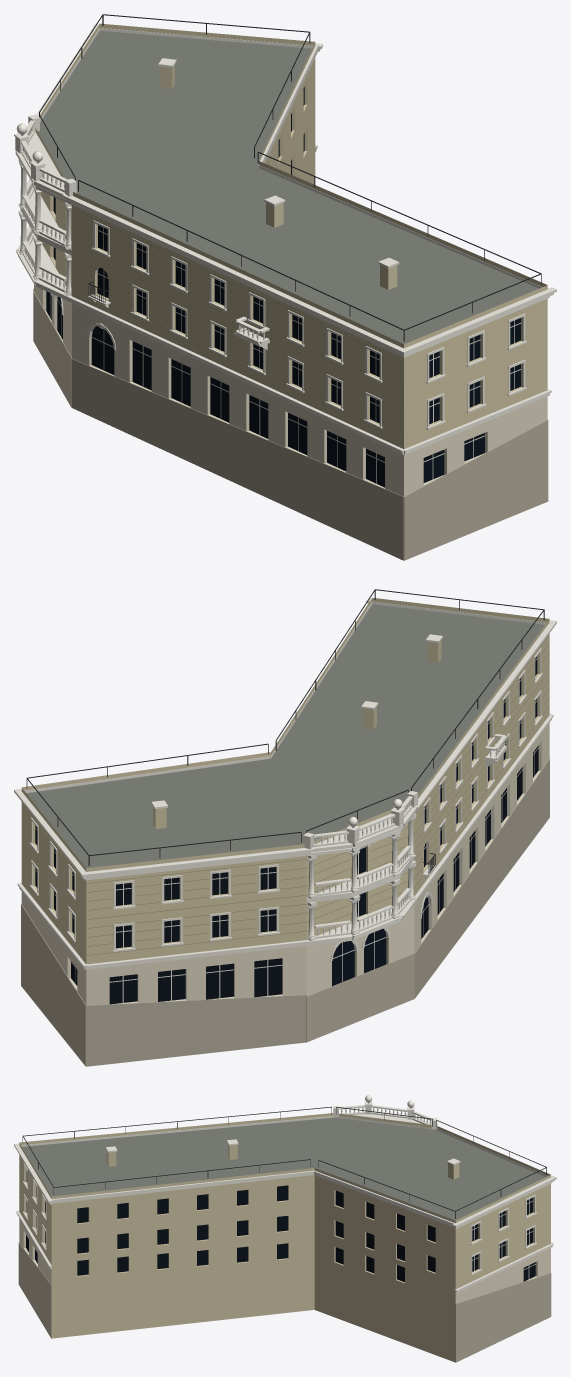
File: bmorskaya35.glb
3 views of the same model, one above another, from view 1: azimuth 30°, elevation 25°; view 2: azimuth 150°, elevation 25°; view 3: azimuth 270°, elevation 25° (orthographic). The views are drawn at different scales.
Parts seen in each view (by area): view 1: bmorskaya35_roof, bmorskaya35_wall, bmorskaya35_stone, bmorskaya35_trim, bmorskaya35_wall2, bmorskaya35_glass, bmorskaya35_wood, bmorskaya35_metal, bmorskaya35_trim_s; view 2: bmorskaya35_roof, bmorskaya35_wall, bmorskaya35_stone, bmorskaya35_trim, bmorskaya35_wall2, bmorskaya35_glass, bmorskaya35_wood, bmorskaya35_metal, bmorskaya35_trim_s; view 3: bmorskaya35_wall, bmorskaya35_roof, bmorskaya35_trim, bmorskaya35_stone, bmorskaya35_glass, bmorskaya35_wall2, bmorskaya35_metal.
Part boxes in pixels (box(x1,y1,x2,y2)): bmorskaya35_roof: box(38, 30, 538, 343); bmorskaya35_wall: box(35, 23, 547, 448); bmorskaya35_stone: box(33, 288, 548, 560); bmorskaya35_trim: box(14, 24, 556, 483); bmorskaya35_wall2: box(34, 284, 547, 496); bmorskaya35_glass: box(46, 87, 520, 487); bmorskaya35_wood: box(41, 193, 403, 439); bmorskaya35_metal: box(39, 14, 541, 341); bmorskaya35_trim_s: box(20, 164, 71, 293); bmorskaya35_roof: box(26, 604, 544, 867); bmorskaya35_wall: box(21, 597, 549, 964); bmorskaya35_stone: box(21, 758, 549, 1066); bmorskaya35_trim: box(14, 598, 556, 1002); bmorskaya35_wall2: box(21, 723, 549, 1005); bmorskaya35_glass: box(35, 656, 538, 1004); bmorskaya35_wood: box(86, 634, 549, 955); bmorskaya35_metal: box(26, 589, 544, 874); bmorskaya35_trim_s: box(308, 818, 414, 938); bmorskaya35_wall: box(19, 1113, 550, 1362); bmorskaya35_roof: box(22, 1117, 545, 1220); bmorskaya35_trim: box(14, 1095, 556, 1293); bmorskaya35_stone: box(18, 1243, 551, 1362); bmorskaya35_glass: box(26, 1171, 535, 1282); bmorskaya35_wall2: box(19, 1218, 550, 1303); bmorskaya35_metal: box(22, 1106, 546, 1218).
Size of the model in its own units: 26.72 by 17.06 by 53.5.
